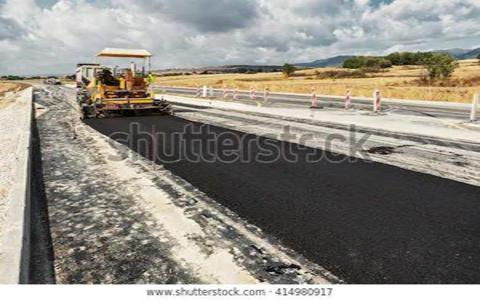Proper road: (267, 166, 446, 263)
